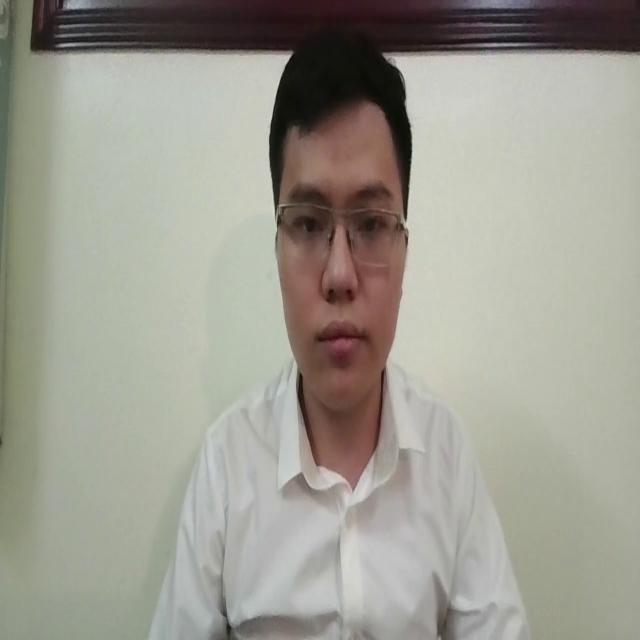student: (144, 19, 532, 640)
